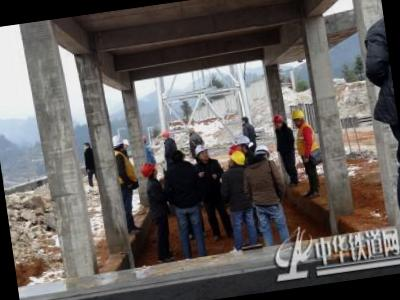no_helmet: (167, 147, 188, 166)
